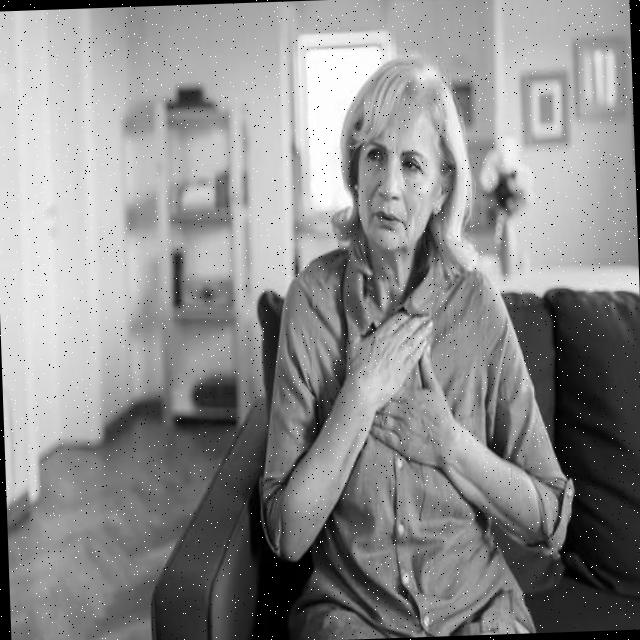Fear: (352, 96, 436, 251)
